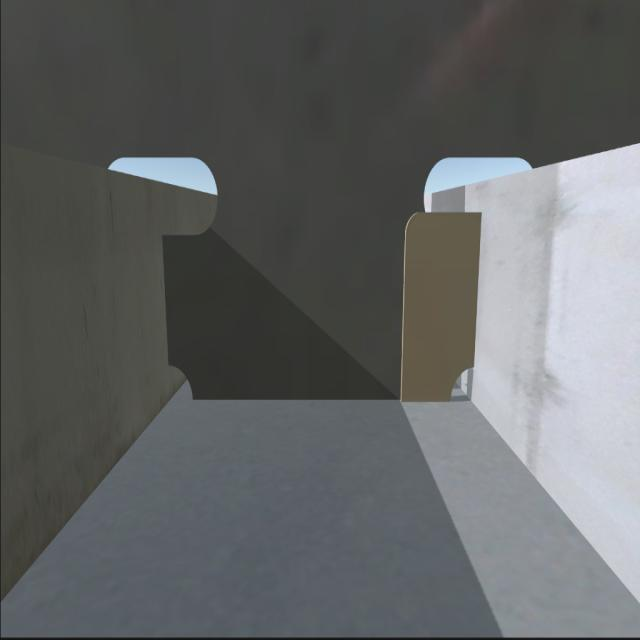fillet_hole: (438, 357, 473, 400), (161, 361, 194, 404)
fillet_yong_jeop_jang: (188, 394, 457, 406)
longi_yong_jeop_jang: (461, 210, 487, 363), (156, 236, 178, 360)
plate_CP05: (400, 201, 482, 393)
